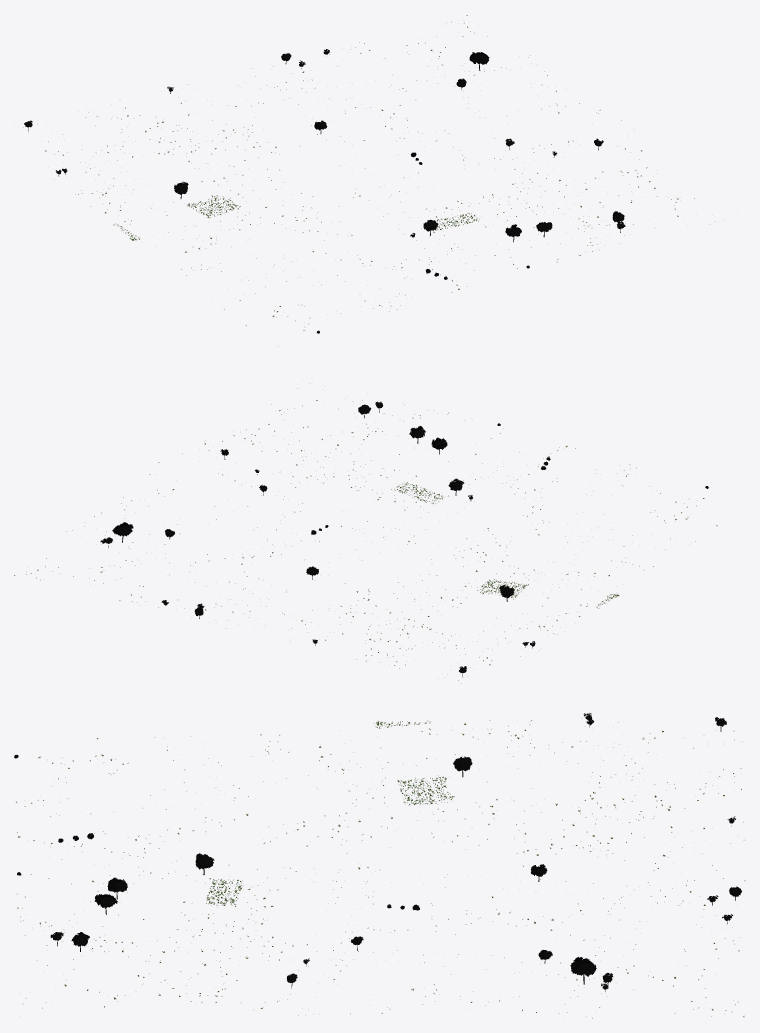
The model's file is Vegetation.fbx.
3 views of the same model, one above another, from view 1: azimuth 30°, elevation 25°; view 2: azimuth 150°, elevation 25°; view 3: azimuth 270°, elevation 25° (orthographic). The views are drawn at different scales.
Parts seen in each view (by area): view 1: EXPORT_OT_Vegetation_SA_M01_01_S02_03; view 2: EXPORT_OT_Vegetation_SA_M01_01_S02_03; view 3: EXPORT_OT_Vegetation_SA_M01_01_S02_03.
Boxes of the visible parts, <box> form: EXPORT_OT_Vegetation_SA_M01_01_S02_03: <box>23,15,724,346</box>; EXPORT_OT_Vegetation_SA_M01_01_S02_03: <box>14,388,717,680</box>; EXPORT_OT_Vegetation_SA_M01_01_S02_03: <box>14,713,745,1018</box>.
Size of the model in its own units: 250 by 17.72 by 251.
